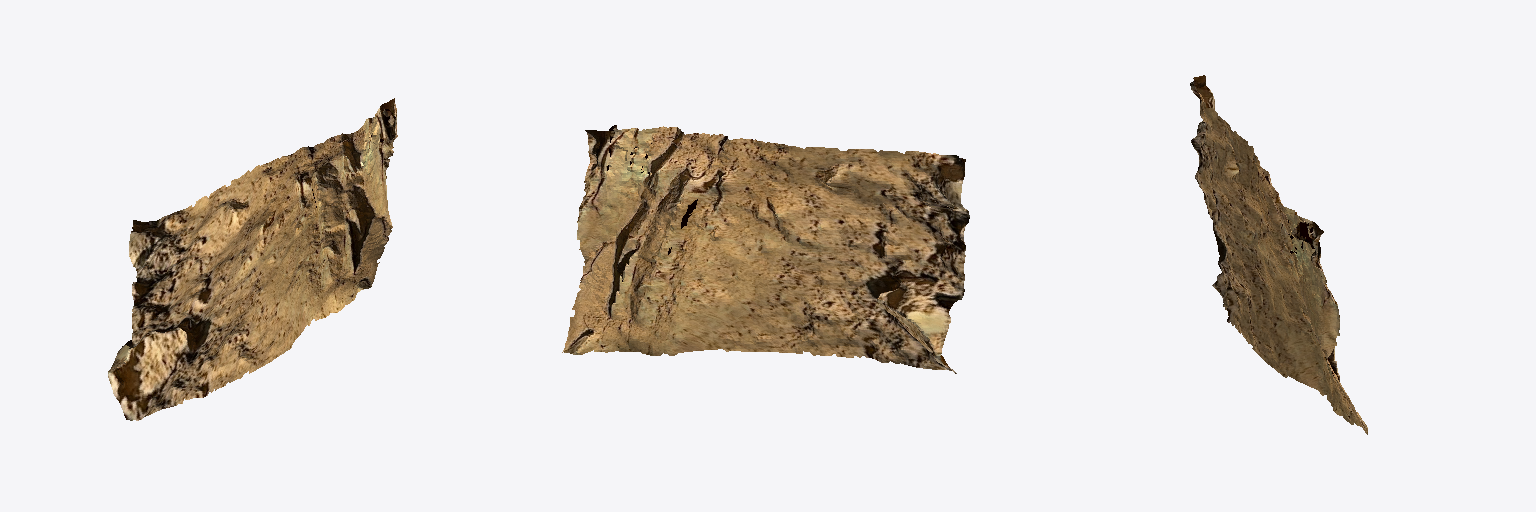
The picture shows the model from 3 angles: view 1: azimuth 30°, elevation 25°; view 2: azimuth 150°, elevation 25°; view 3: azimuth 270°, elevation 25°; orthographic projection.
Bounding box in the file's own units: 1.85 × 1.14 × 0.892.
Materials: 1 (1 with a texture image).